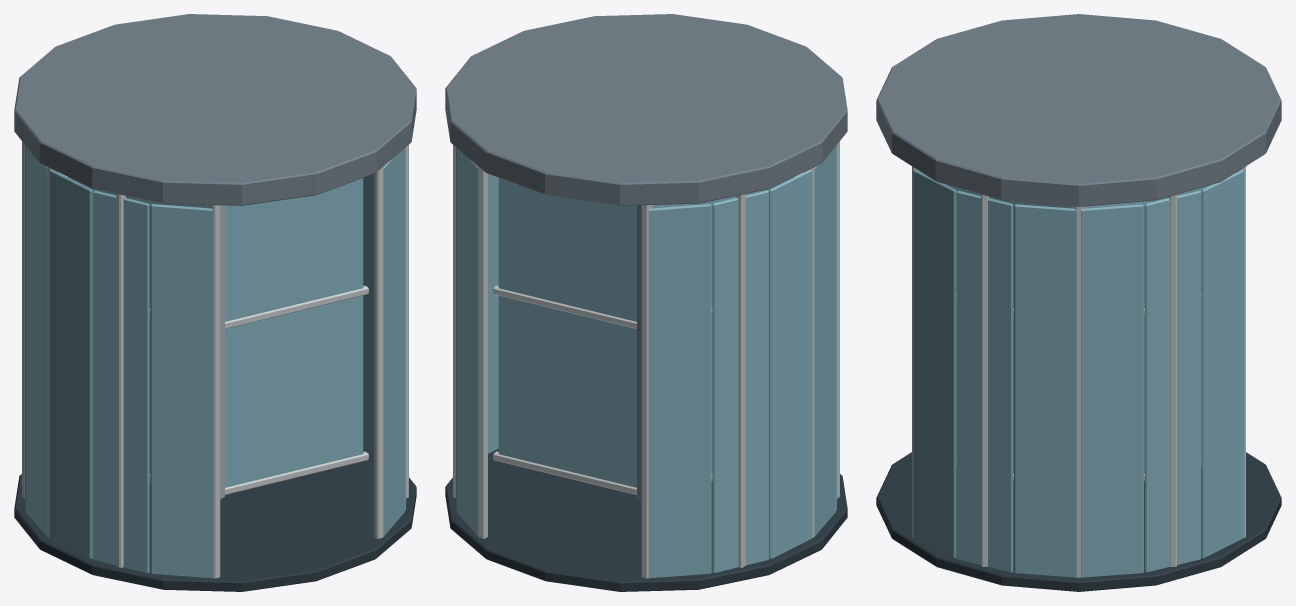
Rendered from b12_revolving_glass_entry.glb.
3 renders of one model, left to right at view 1: azimuth 30°, elevation 25°; view 2: azimuth 150°, elevation 25°; view 3: azimuth 270°, elevation 25°, orthographic.
Parts seen in each view (by area): view 1: b12_revolving_glass_entry; view 2: b12_revolving_glass_entry; view 3: b12_revolving_glass_entry.
Part boxes in pixels (box(x1,y1,x2,y2)): b12_revolving_glass_entry: box(14, 14, 416, 591); b12_revolving_glass_entry: box(445, 14, 847, 591); b12_revolving_glass_entry: box(876, 14, 1281, 591).
Bounding box in the file's own units: 2.24 × 2.49 × 2.24.
